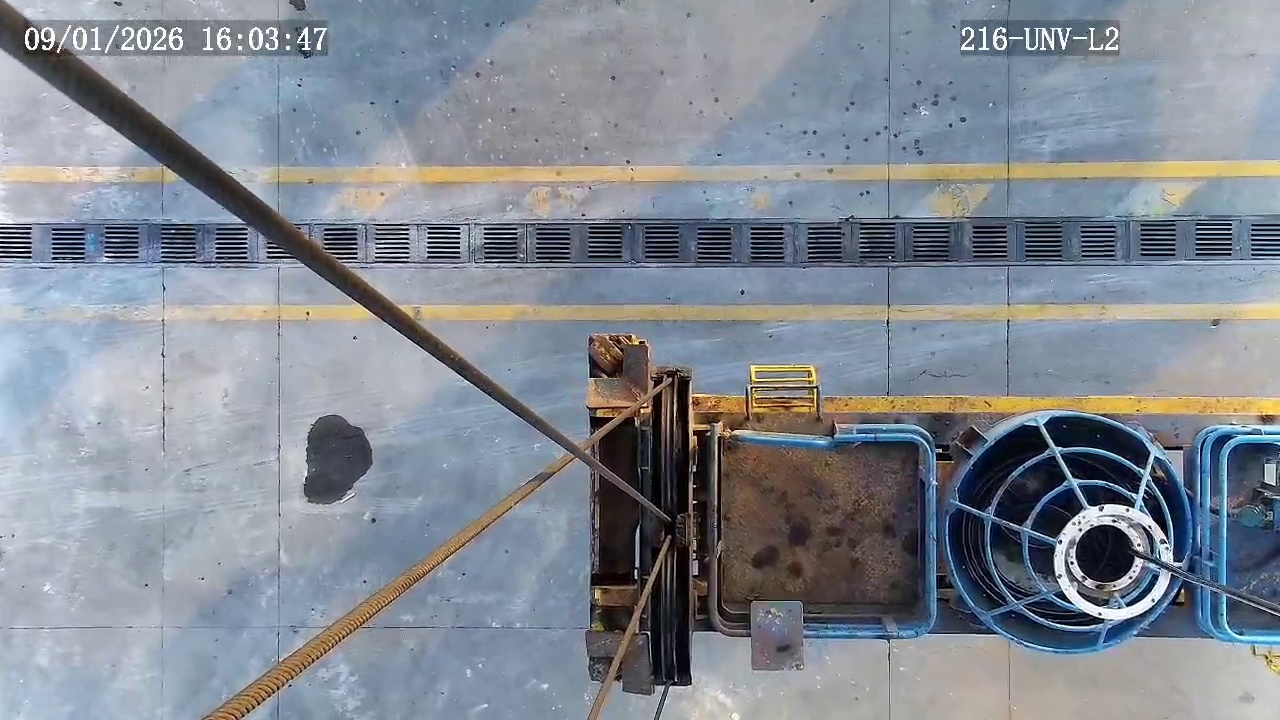left: (948, 412, 1191, 652)
